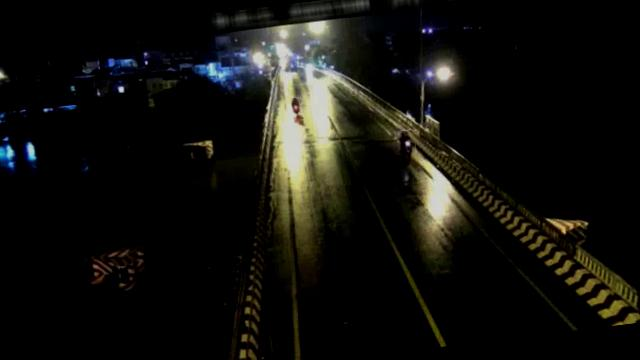Bike: (394, 130, 417, 164), (290, 96, 304, 121)
